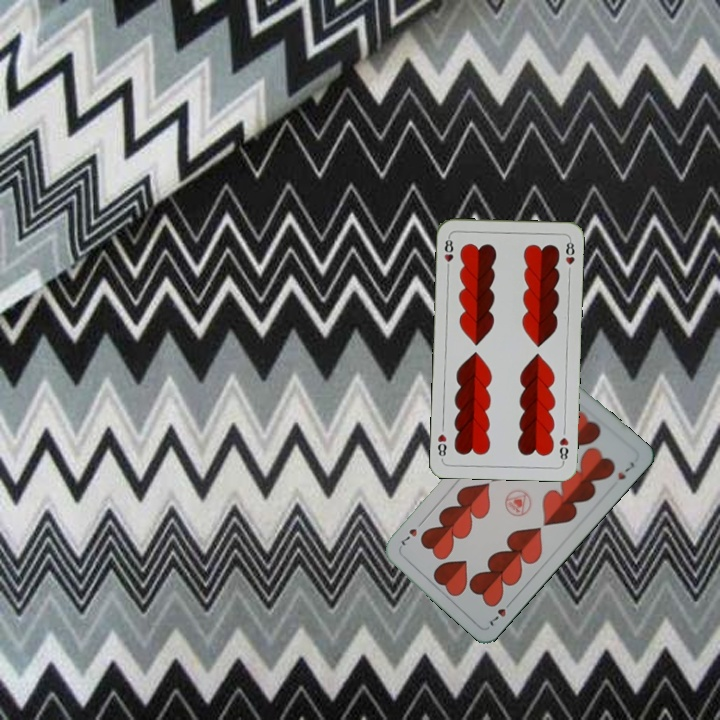H7: (483, 596, 515, 629)
H8: (440, 233, 456, 273), (555, 433, 571, 465)
